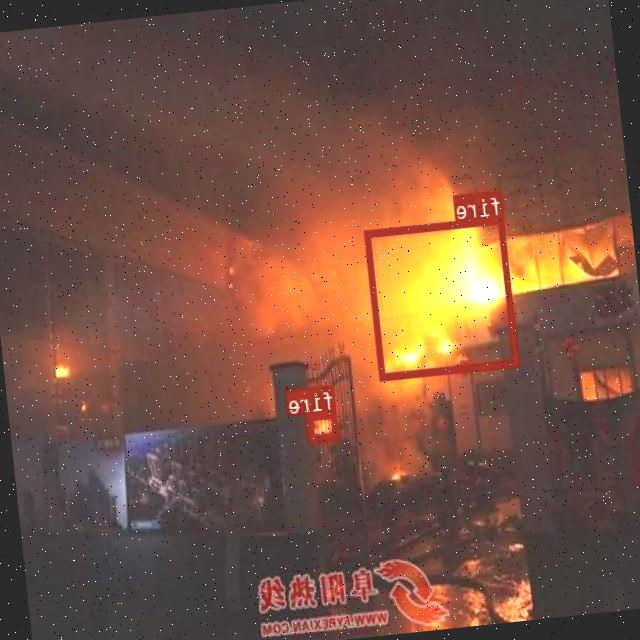fire: (365, 214, 520, 378), (308, 408, 340, 442)
